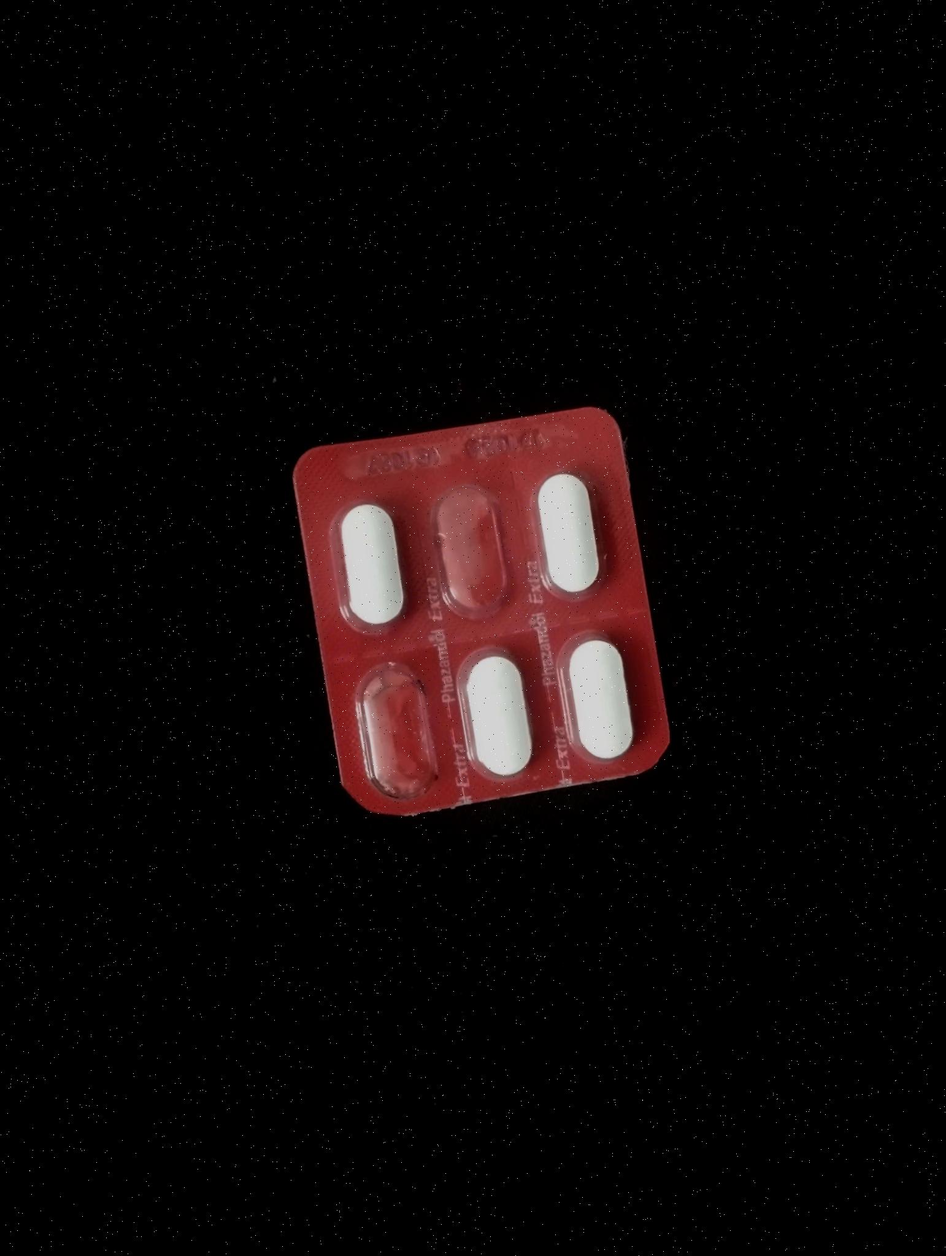Empty: (416, 454, 530, 628), (353, 653, 452, 805)
Full: (554, 622, 647, 773), (326, 485, 418, 635), (450, 641, 545, 784), (526, 461, 611, 608)
